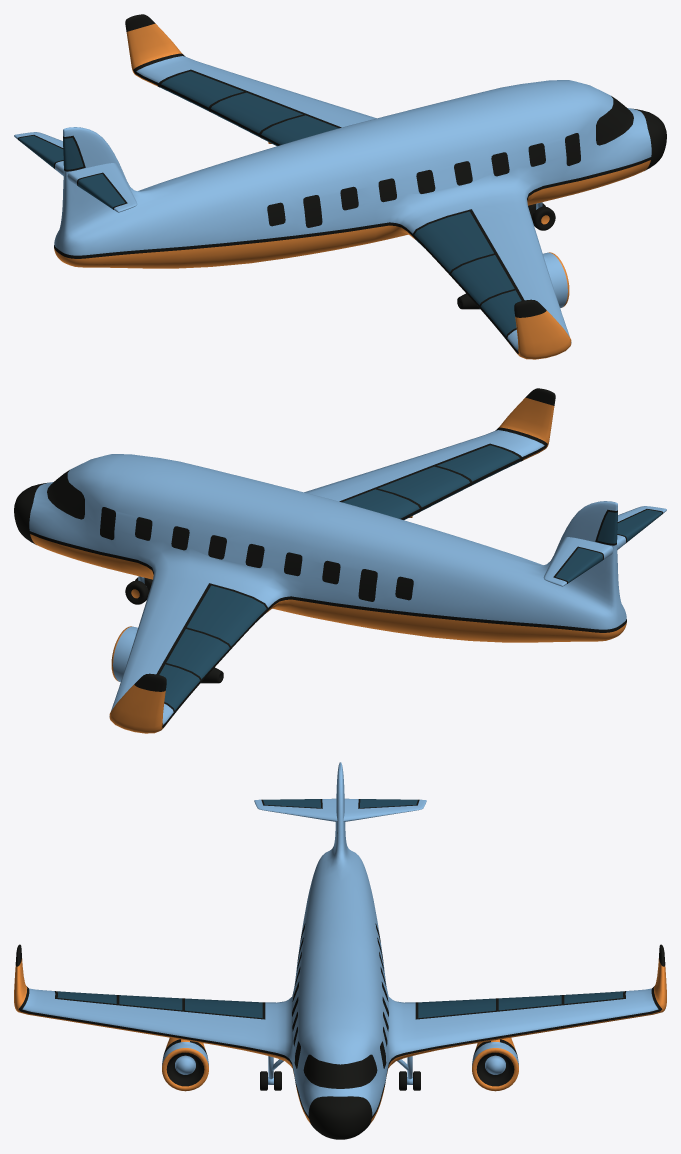
Rendered from airport-airplane.glb.
The picture shows the model from 3 angles, top to bottom: view 1: azimuth 30°, elevation 25°; view 2: azimuth 150°, elevation 25°; view 3: azimuth 270°, elevation 25°; orthographic projection. The views are drawn at different scales.
Visible parts, largest first — view 1: 18.1.Airplane; view 2: 18.1.Airplane; view 3: 18.1.Airplane.
Boxes of the visible parts, x1,y1,x2,y2 form: 18.1.Airplane: (14,14,666,359); 18.1.Airplane: (14,388,666,733); 18.1.Airplane: (14,762,666,1139).
Size of what is drawn, in the model's own units: 51.34 by 17.35 by 58.31.
1 material, 1 textured.
